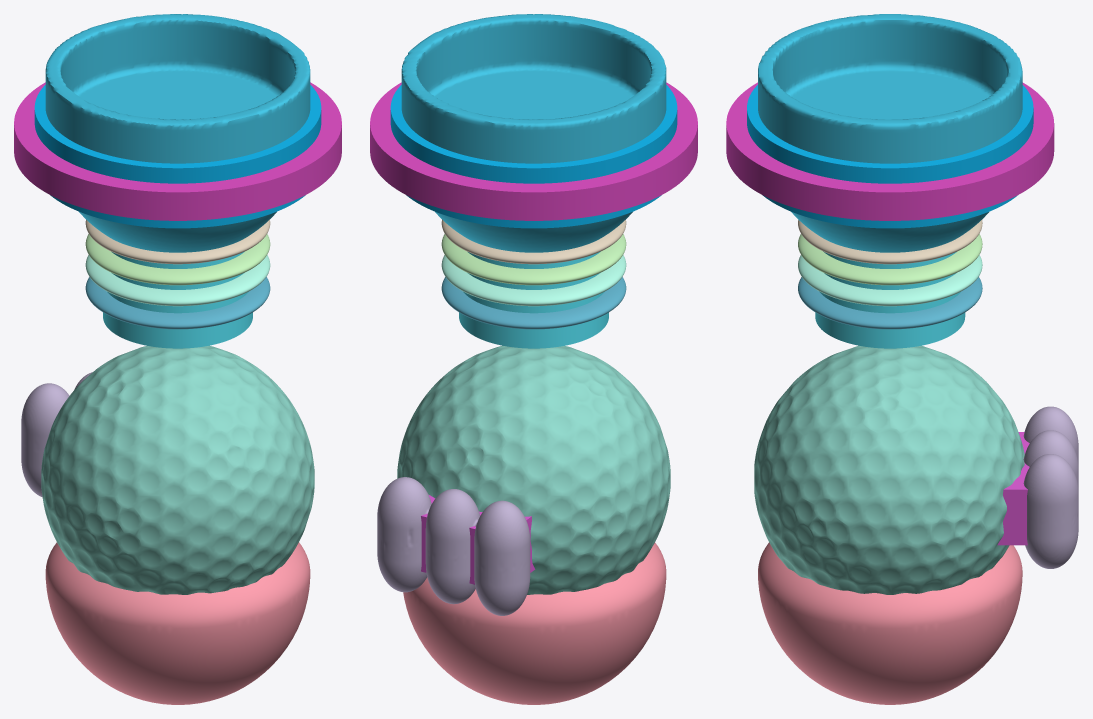
3 renders of one model, left to right at view 1: azimuth 30°, elevation 25°; view 2: azimuth 150°, elevation 25°; view 3: azimuth 270°, elevation 25°, orthographic.
Visible parts, largest first — view 1: Object_30, Object_25, Object_58, Object_8, Object_5, Object_12, Object_20, Object_16, Object_18, Object_33, split_parent_3; view 2: Object_30, Object_25, Object_58, Object_33, Object_8, Object_5, Object_12, Object_20, Object_16, Object_18, split_parent_3, Object_62; view 3: Object_30, Object_25, Object_58, Object_8, Object_5, Object_33, Object_12, Object_20, Object_16, Object_18, split_parent_3, Object_62.
Boxes of the visible parts, left/top/right/bottom form: Object_30: left=41, top=345, right=314, bottom=594; Object_25: left=45, top=14, right=310, bottom=252; Object_58: left=45, top=542, right=310, bottom=704; Object_8: left=14, top=82, right=341, bottom=220; Object_5: left=34, top=85, right=321, bottom=228; Object_12: left=103, top=251, right=252, bottom=348; Object_20: left=85, top=277, right=270, bottom=329; Object_16: left=85, top=234, right=270, bottom=285; Object_18: left=85, top=255, right=270, bottom=306; Object_33: left=21, top=372, right=92, bottom=497; split_parent_3: left=85, top=219, right=270, bottom=264; Object_30: left=397, top=345, right=670, bottom=594; Object_25: left=401, top=14, right=666, bottom=252; Object_58: left=403, top=542, right=666, bottom=704; Object_33: left=377, top=477, right=530, bottom=615; Object_8: left=370, top=82, right=697, bottom=220; Object_5: left=390, top=85, right=677, bottom=228; Object_12: left=459, top=251, right=608, bottom=348; Object_20: left=441, top=277, right=626, bottom=329; Object_16: left=441, top=234, right=626, bottom=285; Object_18: left=441, top=255, right=626, bottom=306; split_parent_3: left=441, top=219, right=626, bottom=264; Object_62: left=421, top=495, right=535, bottom=584; Object_30: left=754, top=345, right=1024, bottom=594; Object_25: left=758, top=14, right=1022, bottom=252; Object_58: left=758, top=542, right=1022, bottom=704; Object_8: left=726, top=82, right=1054, bottom=220; Object_5: left=747, top=85, right=1033, bottom=228; Object_33: left=1023, top=406, right=1078, bottom=568; Object_12: left=815, top=251, right=965, bottom=348; Object_20: left=798, top=277, right=982, bottom=329; Object_16: left=798, top=234, right=982, bottom=285; Object_18: left=798, top=255, right=982, bottom=306; split_parent_3: left=798, top=220, right=982, bottom=264; Object_62: left=997, top=432, right=1029, bottom=545.
Bounding box in the file's own units: 0.4765 × 1 × 0.512.
